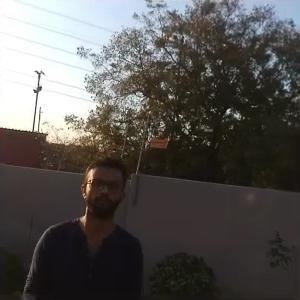follow: (18, 152, 147, 298)
